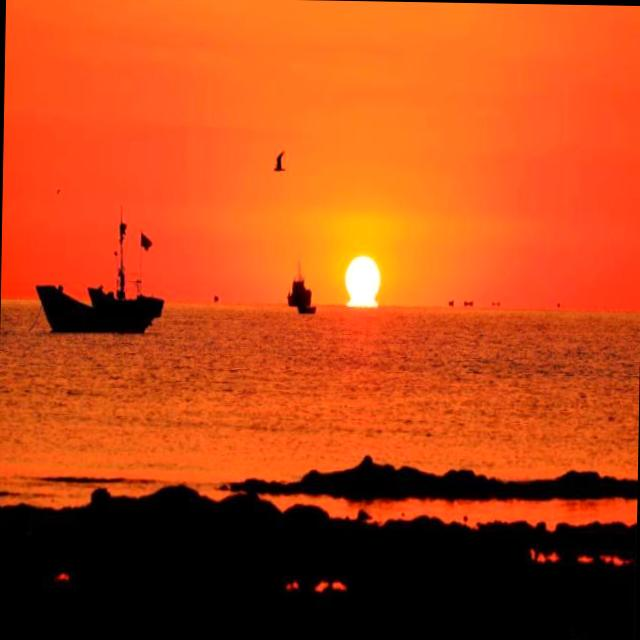bird: (273, 150, 289, 174)
